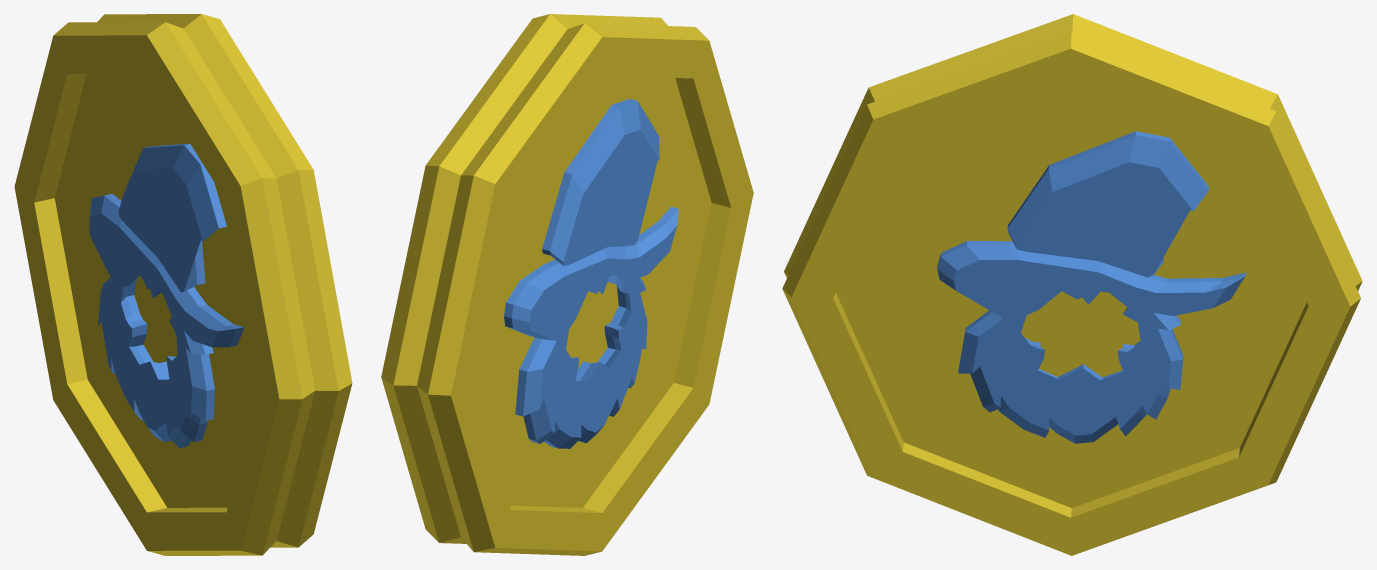
Rendered from coin-model2.fbx.
3 views of the same model, side by side, from view 1: azimuth 30°, elevation 25°; view 2: azimuth 150°, elevation 25°; view 3: azimuth 270°, elevation 25° (orthographic).
Visible parts, largest first — view 1: CoinMesh1; view 2: CoinMesh1; view 3: CoinMesh1.
Part boxes in pixels (<box>): CoinMesh1: <box>14,14,352,555</box>; CoinMesh1: <box>381,14,753,555</box>; CoinMesh1: <box>782,14,1362,555</box>.
Bounding box in the file's own units: 1.51 × 8.49 × 8.5.
